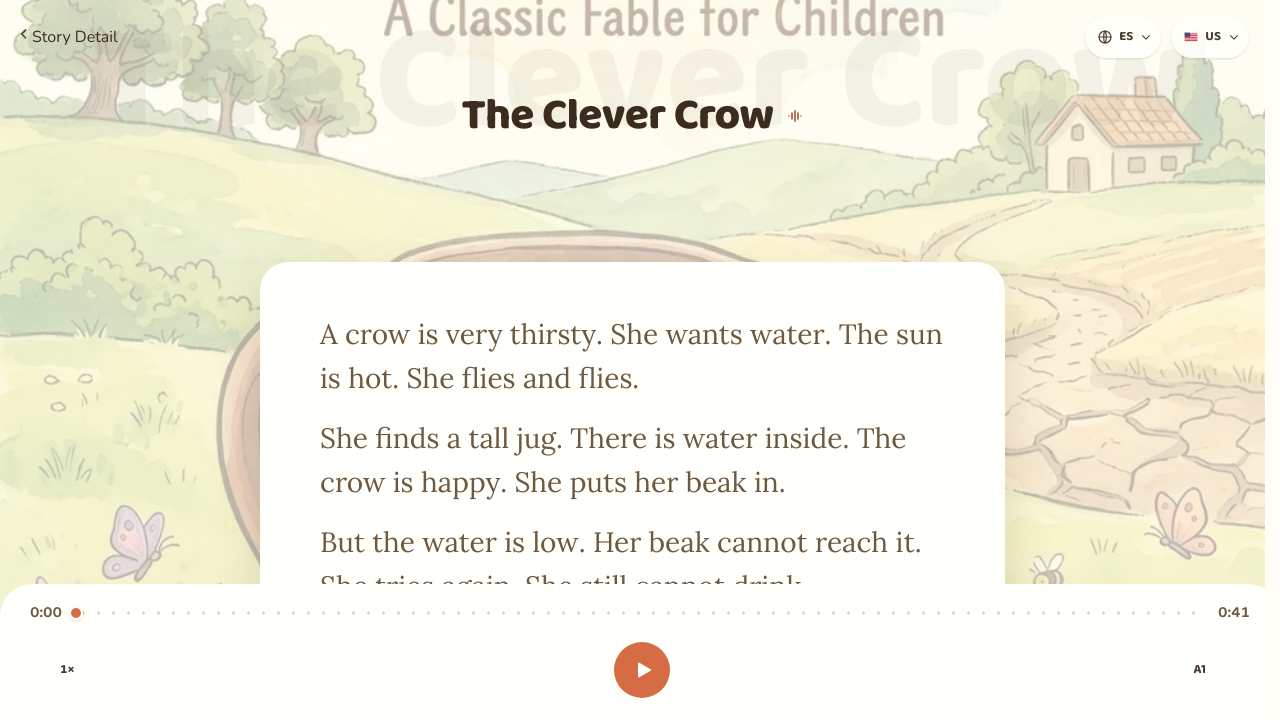
Test: ReaderScreen › pauses story playback when a word's meaning popover is opened
This screenshot has width=1280, height=720.
Expected: the heading "The Clever Crow" is shown, top-left (462, 90), bottom-right (804, 142)
# Start playback → the transport flips to Pause.
Click the button named "Play". click: (642, 670)
box: top-left (614, 642), bottom-right (670, 698)
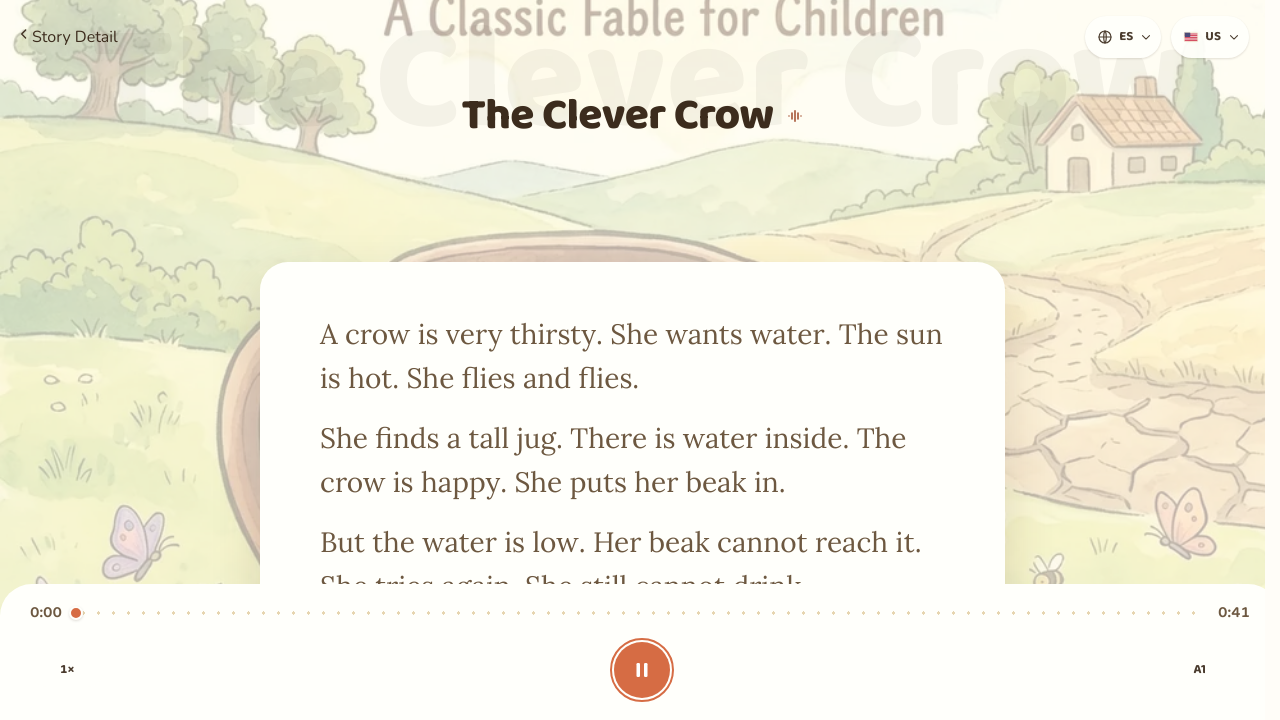
Now the button named "Pause" is shown, box top-left (614, 642), bottom-right (670, 698)
Click the button "very". click: (474, 334)
box: top-left (446, 312), bottom-right (502, 356)
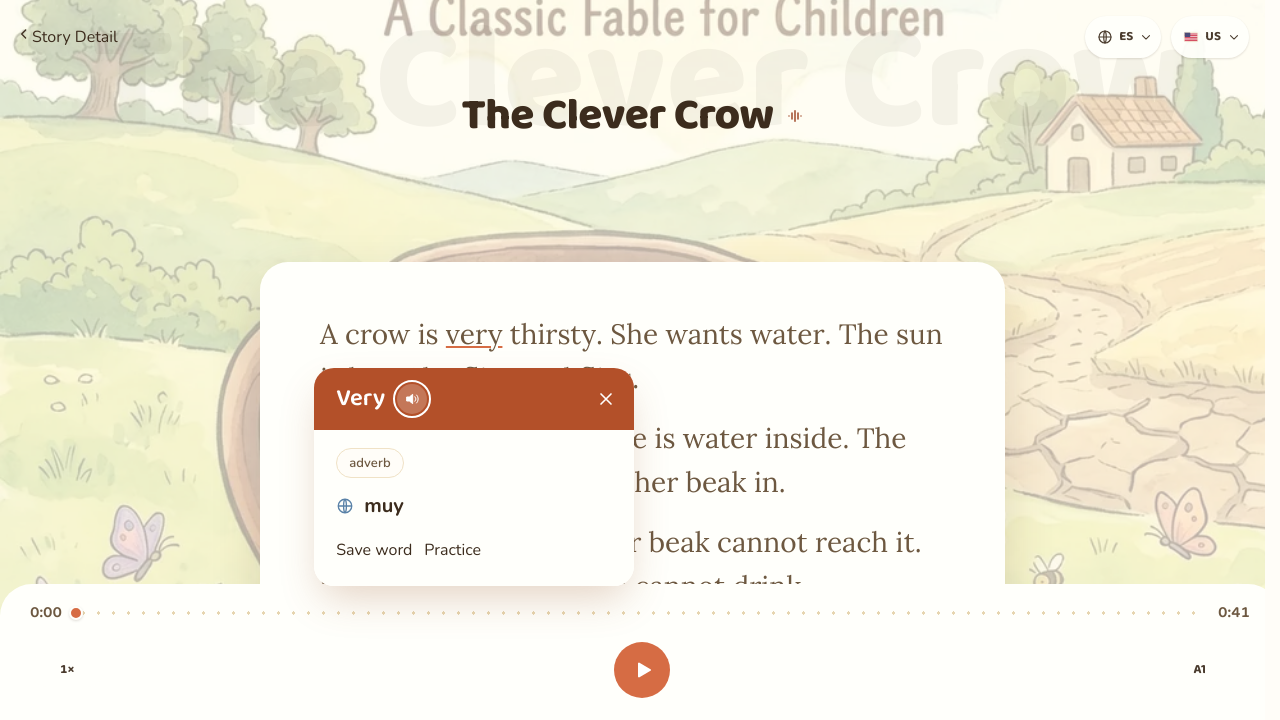
Now the dialog "Very" is shown, box top-left (314, 368), bottom-right (634, 586)
Now the button named "Play" is shown, box top-left (614, 642), bottom-right (670, 698)
